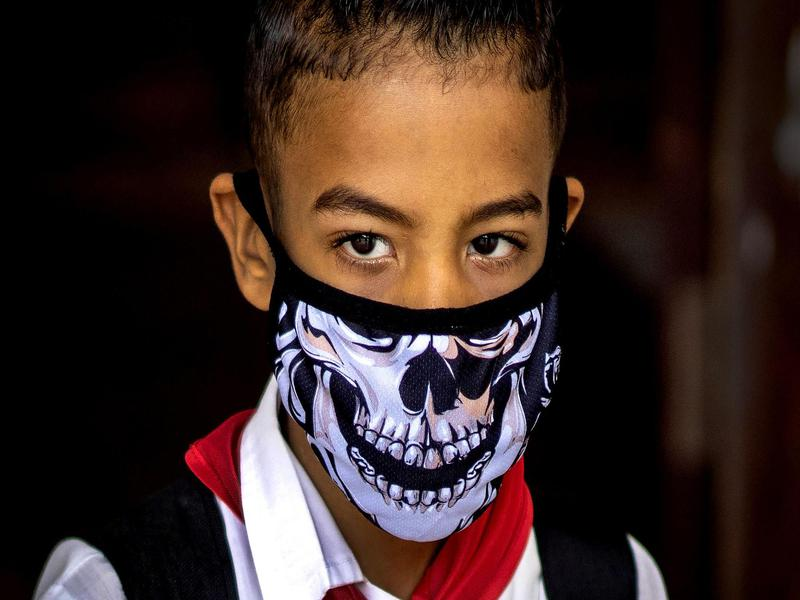with_mask: (237, 4, 573, 542)
